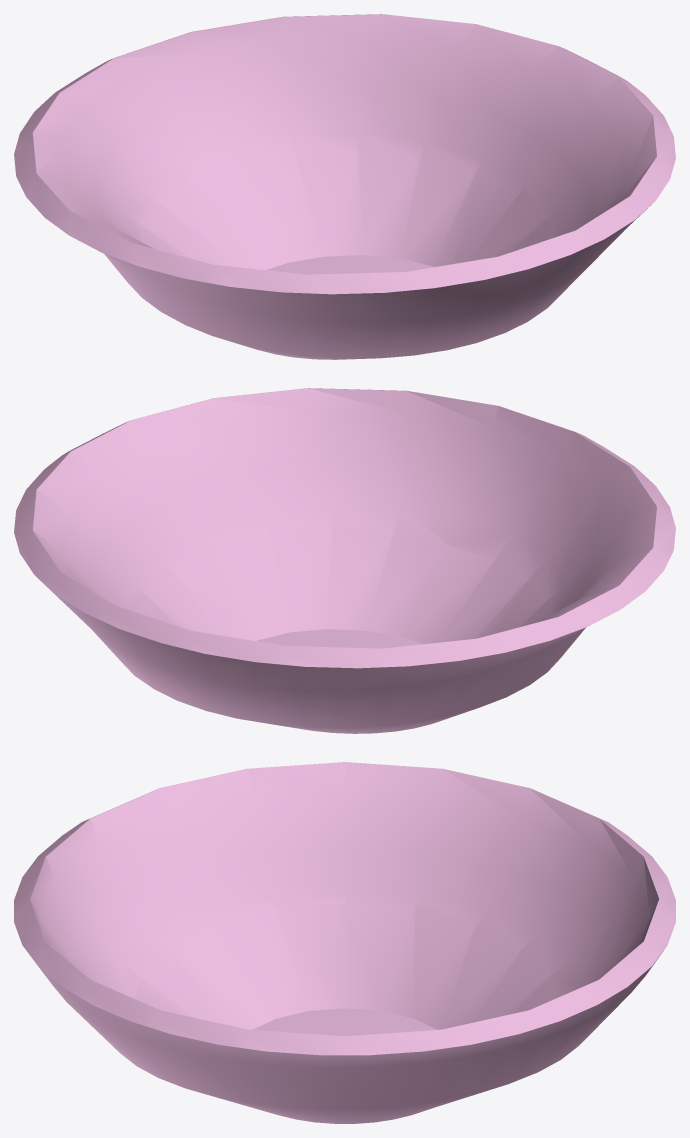
The picture shows the model from 3 angles, top to bottom: view 1: azimuth 30°, elevation 25°; view 2: azimuth 150°, elevation 25°; view 3: azimuth 270°, elevation 25°; orthographic projection. The views are drawn at different scales.
Visible parts, largest first — view 1: pCylinder6; view 2: pCylinder6; view 3: pCylinder6.
Boxes of the visible parts, left/top/right/bottom form: pCylinder6: left=14, top=14, right=675, bottom=359; pCylinder6: left=14, top=388, right=675, bottom=733; pCylinder6: left=14, top=762, right=675, bottom=1123.
Bounding box in the file's own units: 1.41 × 0.3783 × 1.37.
